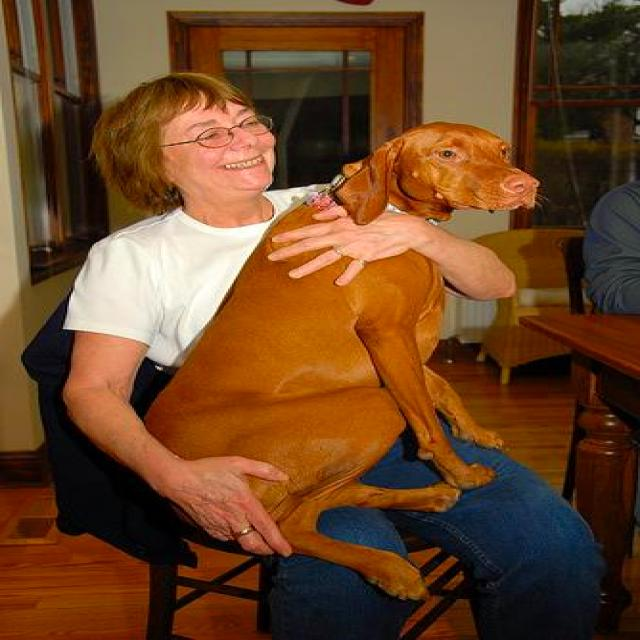vizsla: (146, 119, 554, 604)
